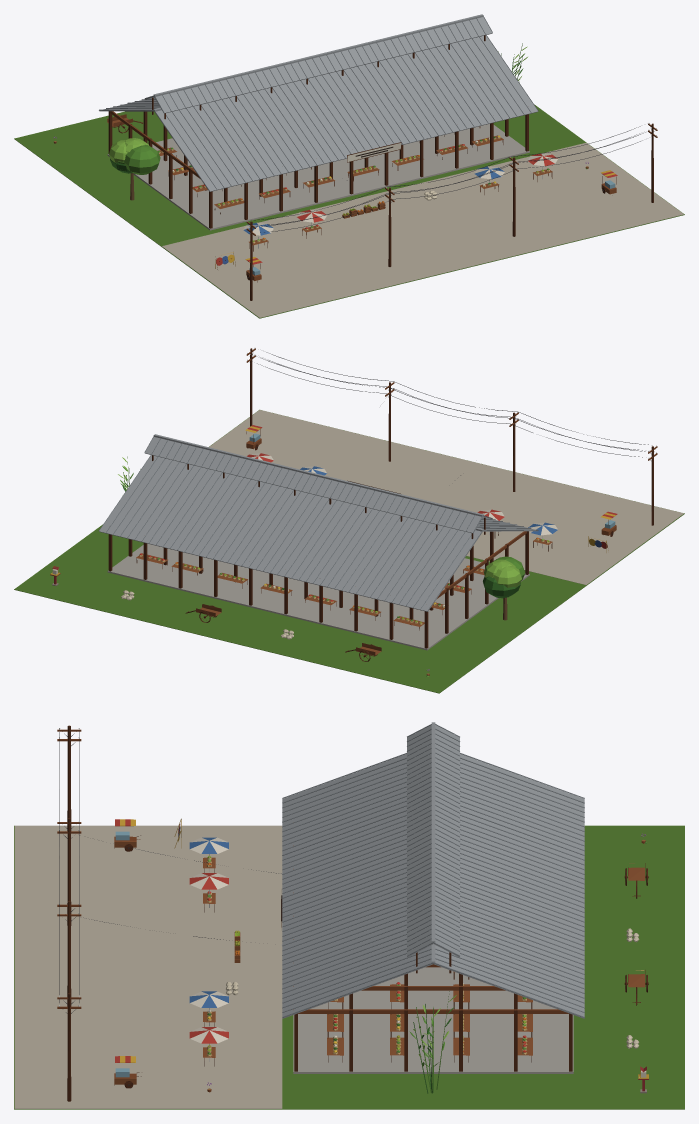
The model's file is market.glb.
3 renders of one model, top to bottom at view 1: azimuth 30°, elevation 25°; view 2: azimuth 150°, elevation 25°; view 3: azimuth 270°, elevation 25°, orthographic. The views are drawn at different scales.
Parts seen in each view (by area): view 1: body; view 2: body; view 3: body.
Boxes of the visible parts, x1=… form: body: x1=14, y1=14, x2=684, y2=318; body: x1=14, y1=348, x2=684, y2=693; body: x1=14, y1=722, x2=684, y2=1109.
Bounding box in the file's own units: 47.9 × 10.94 × 47.9.
